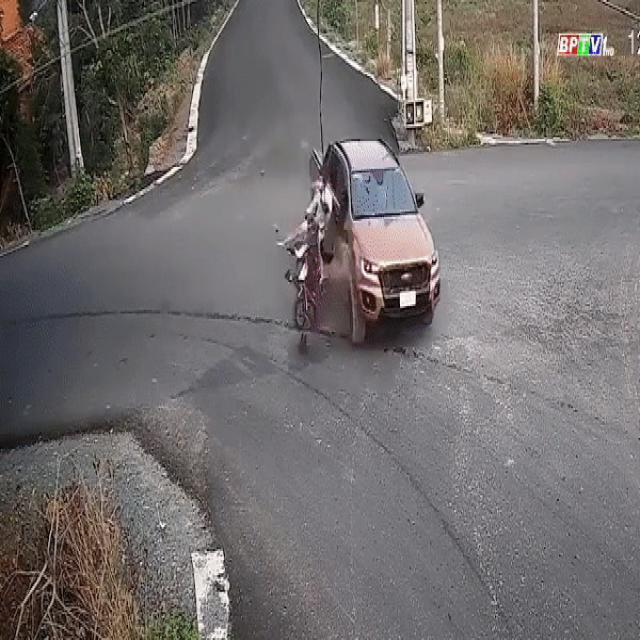multiple_accident: (276, 125, 445, 383)
